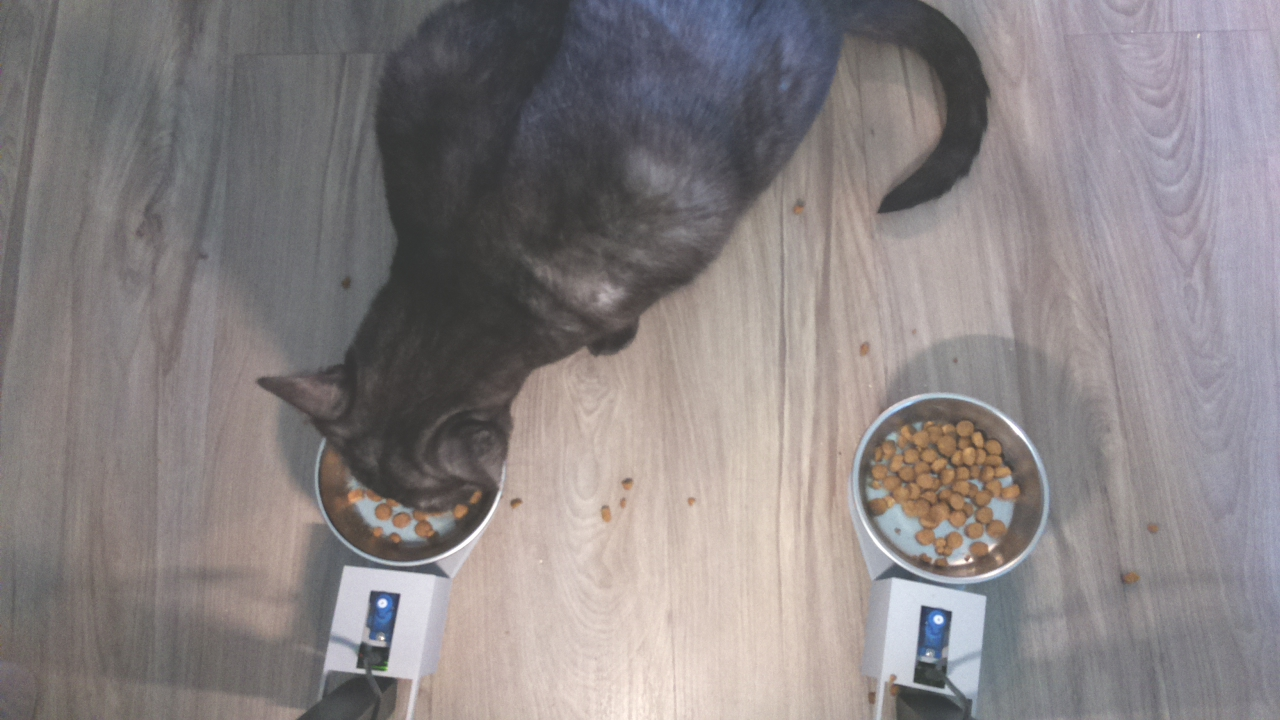open_bowl: (849, 389, 1052, 584)
saki_eating: (249, 294, 523, 576)
